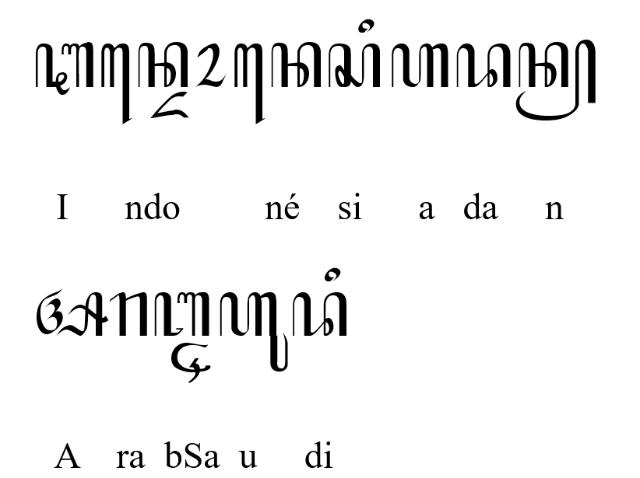-n: (516, 39, 596, 121)
A: (36, 288, 110, 338)
I: (36, 41, 94, 95)
_T: (170, 342, 212, 384)
_d: (149, 90, 189, 120)
b: (154, 292, 210, 338)
d: (292, 291, 348, 337), (456, 42, 510, 88)
e1: (233, 43, 265, 125), (101, 43, 132, 125)
h: (391, 43, 449, 89)
hu: (218, 293, 290, 373)
i: (324, 267, 342, 283), (357, 19, 375, 34)
n: (270, 40, 322, 88), (138, 41, 188, 88)
o: (196, 42, 226, 88)
r: (110, 291, 148, 338)
s: (328, 44, 380, 88)
